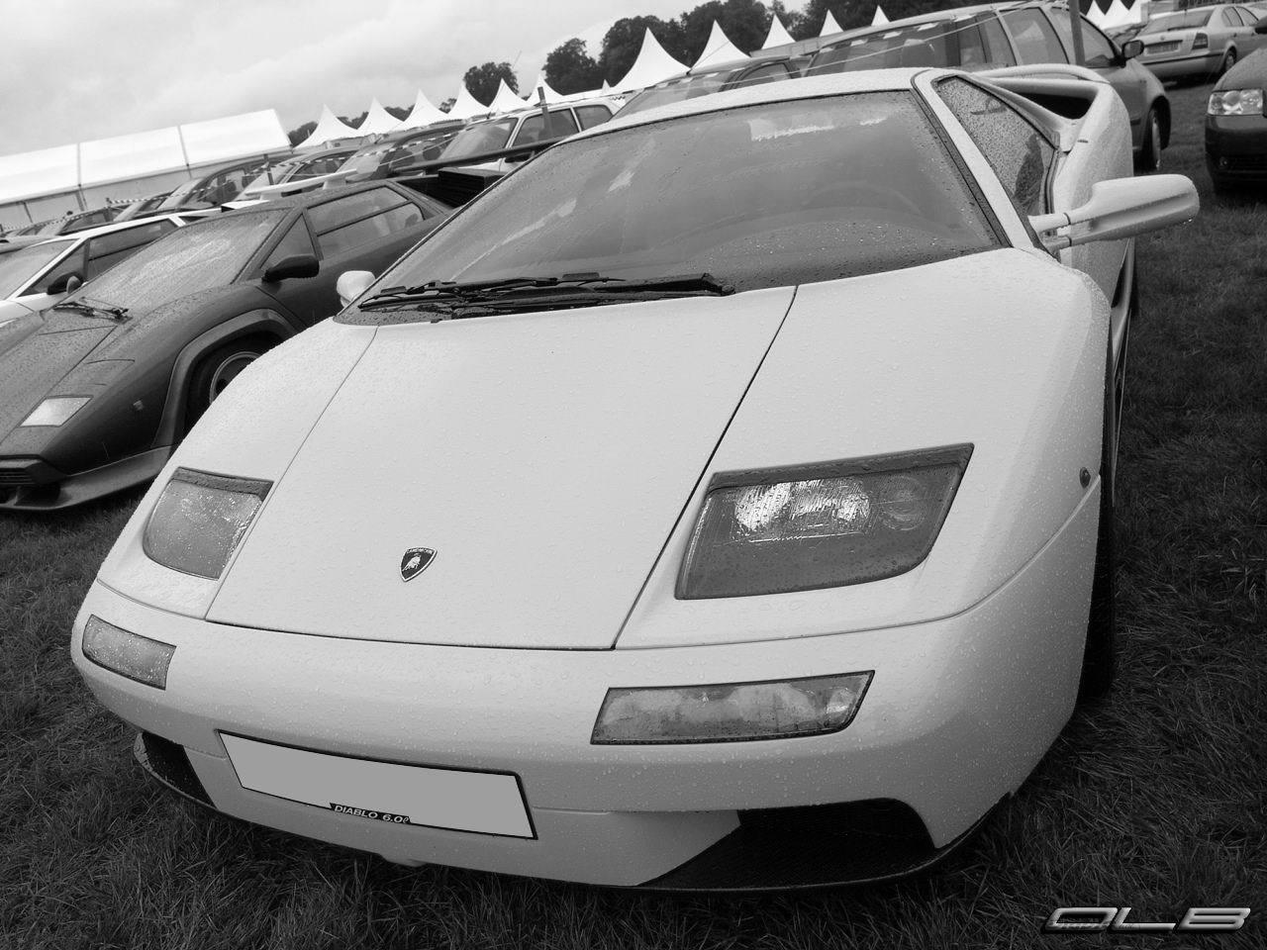car: (11, 15, 1248, 922)
